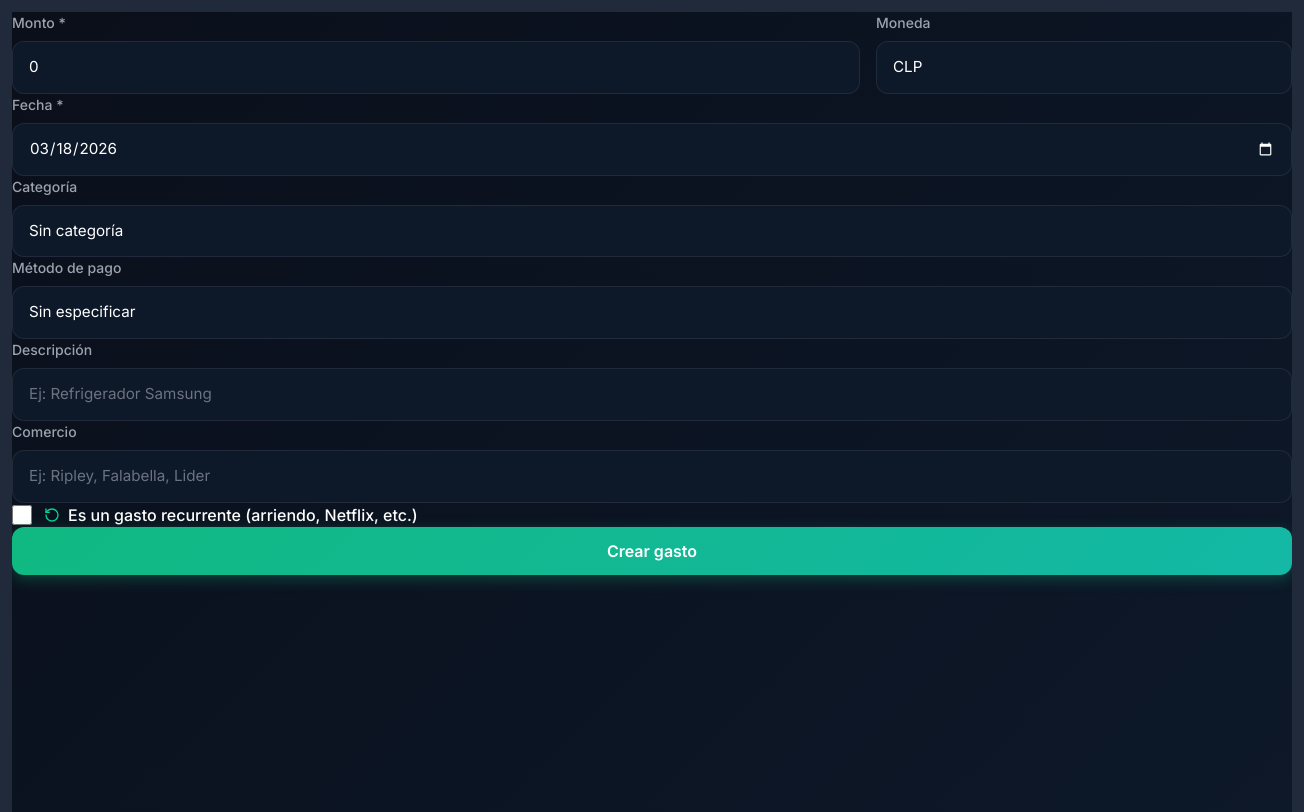
it: ExpenseForm › shows installments options when credit method selected
This screenshot has width=1304, height=812.
Check: the text "¿En cuántas cuotas?" is not shown
Select "Tarjeta de Crédito" in the dropdown below "Método de pago" at (652, 313), box [12,286,1292,339]
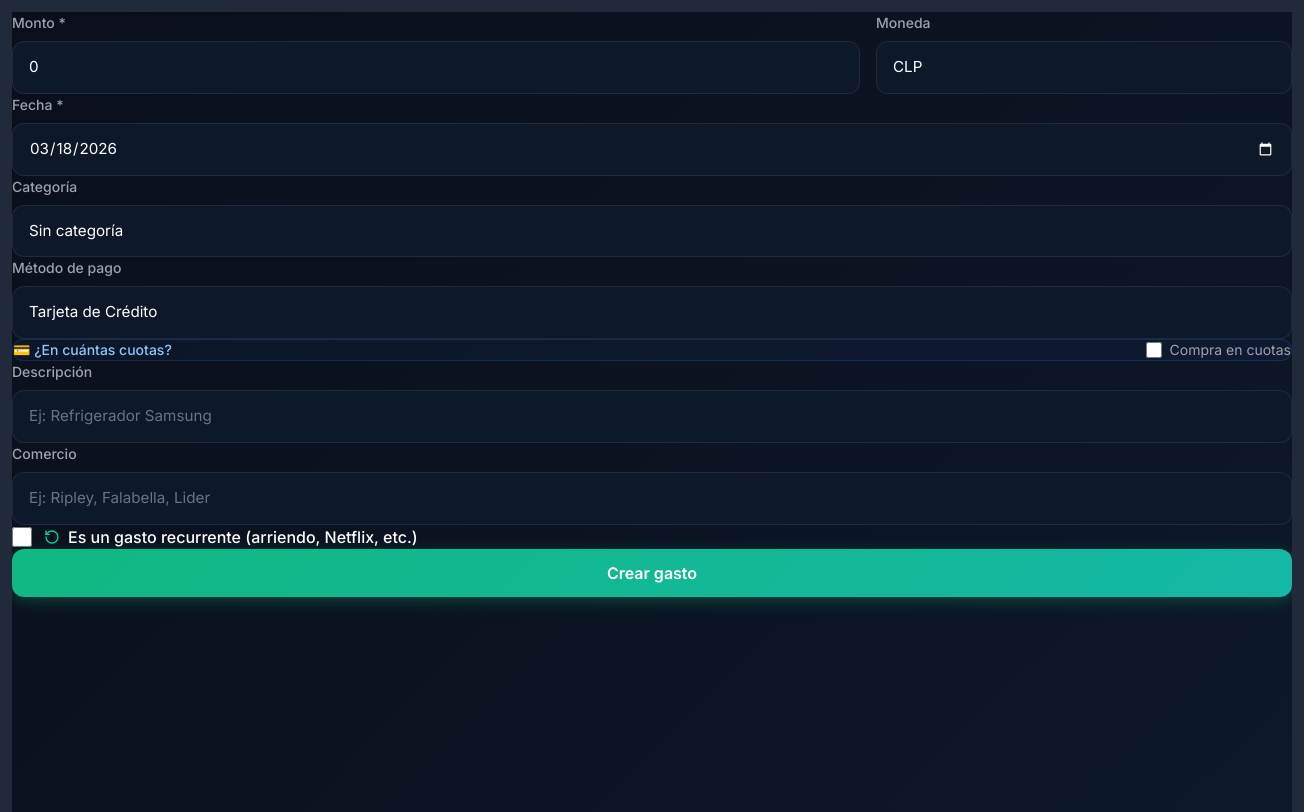
Check: the text "💳 ¿En cuántas cuotas?" is shown, box [13,340,172,360]
// Activar cuotas
Click the checkbox labelled "Compra en cuotas".
click(1154, 350)  # box [1146,342,1162,358]
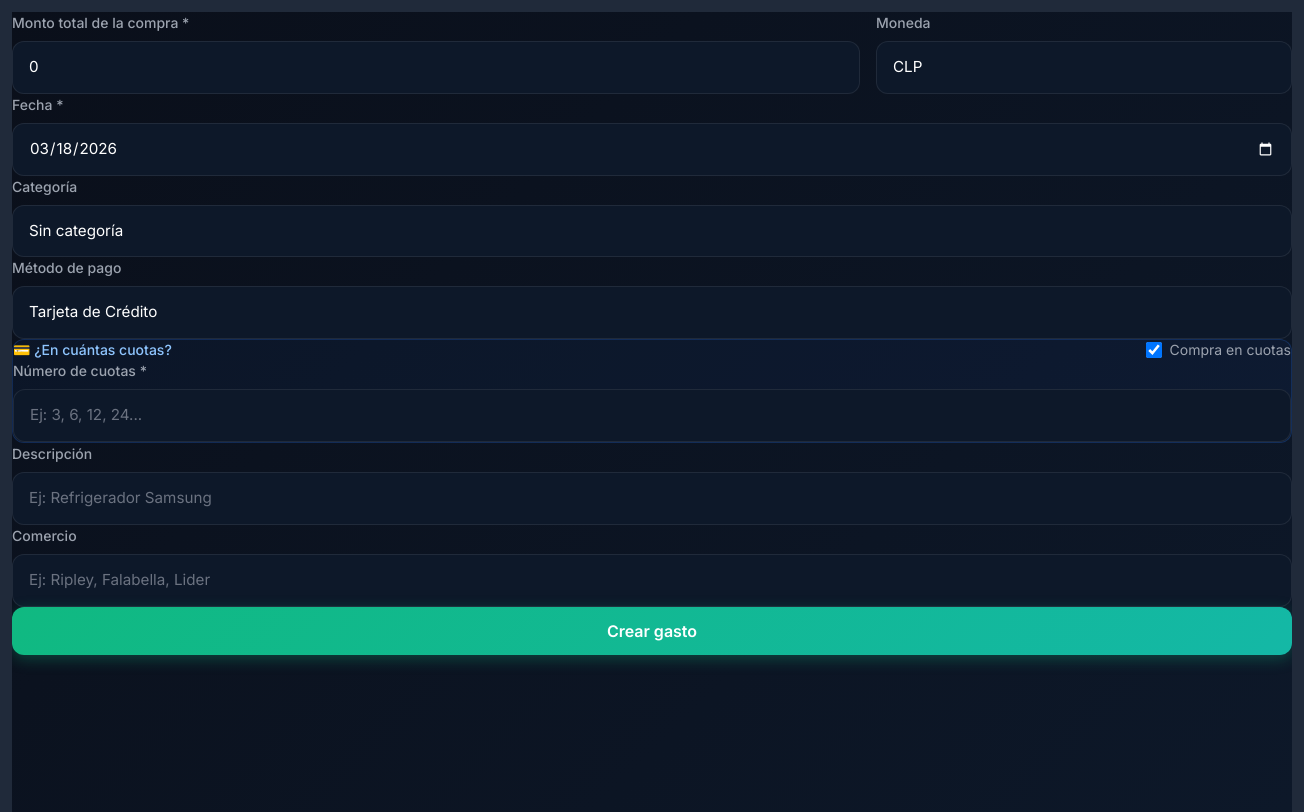
Check: the text "Número de cuotas *" is shown, box [13,362,147,379]
Check: the text "Monto total de la compra *" is shown, box [12,14,189,31]
